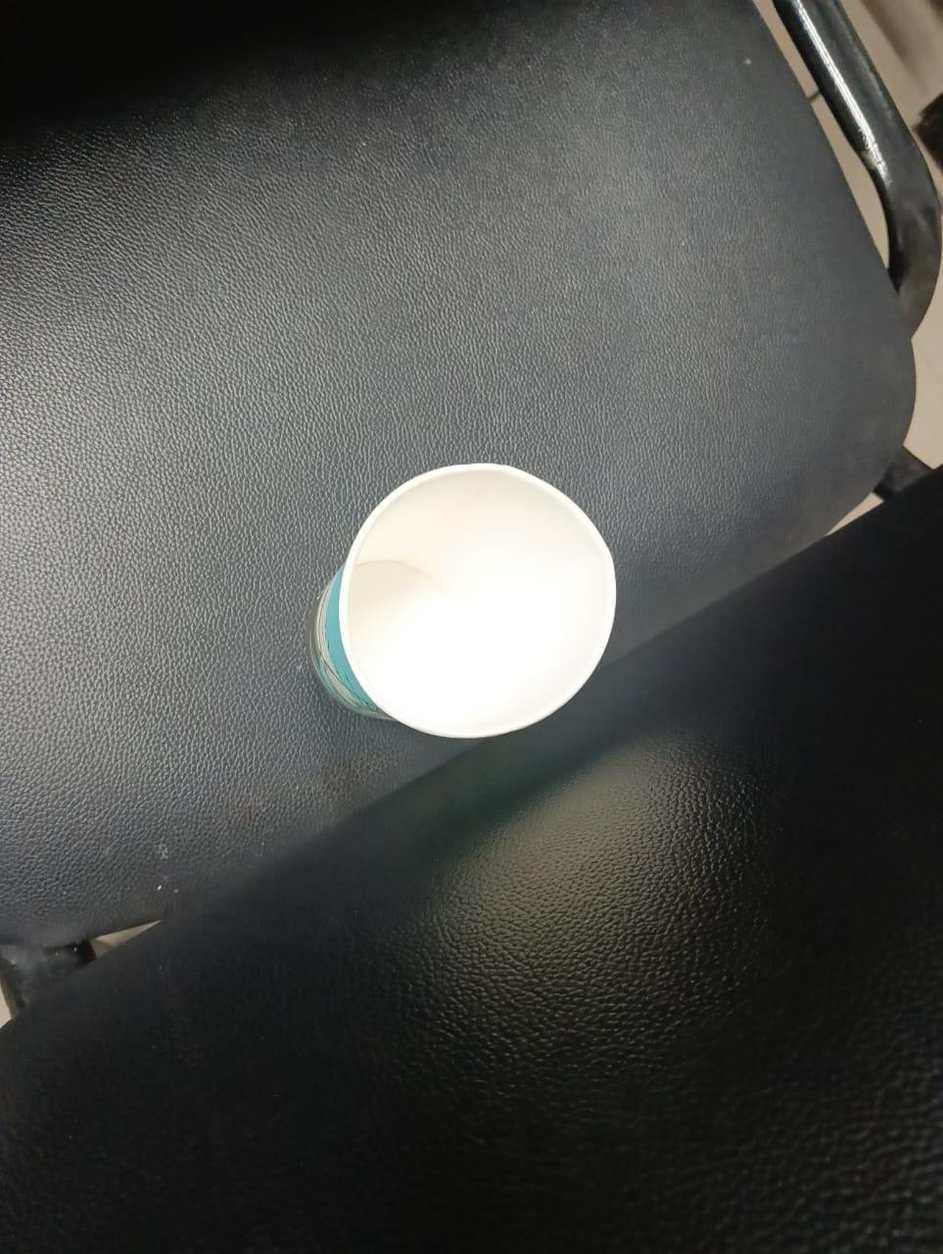cup: (310, 464, 615, 737)
